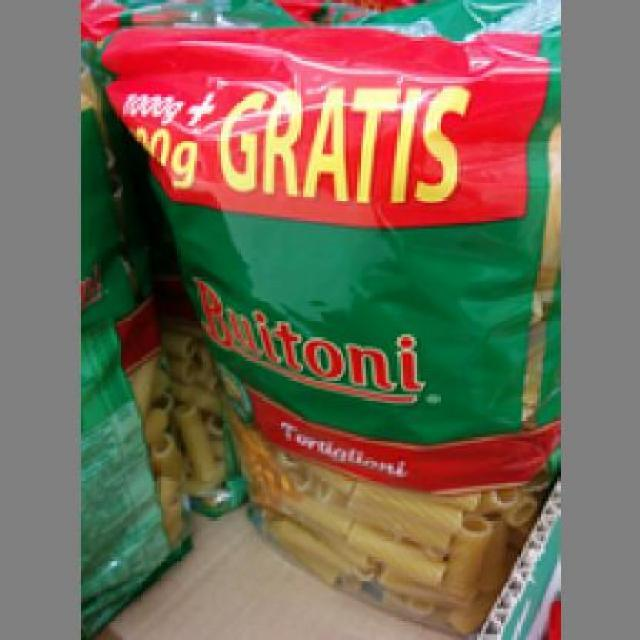Pasta: (96, 0, 555, 632)
